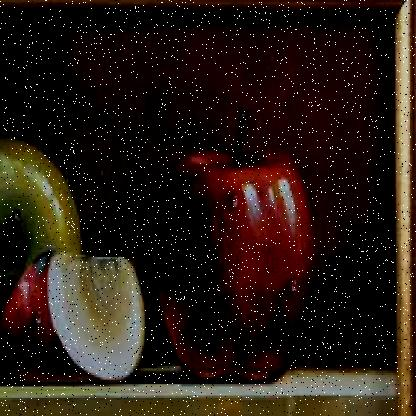apple: (152, 155, 318, 391)
damaged_apple: (10, 248, 148, 393)
